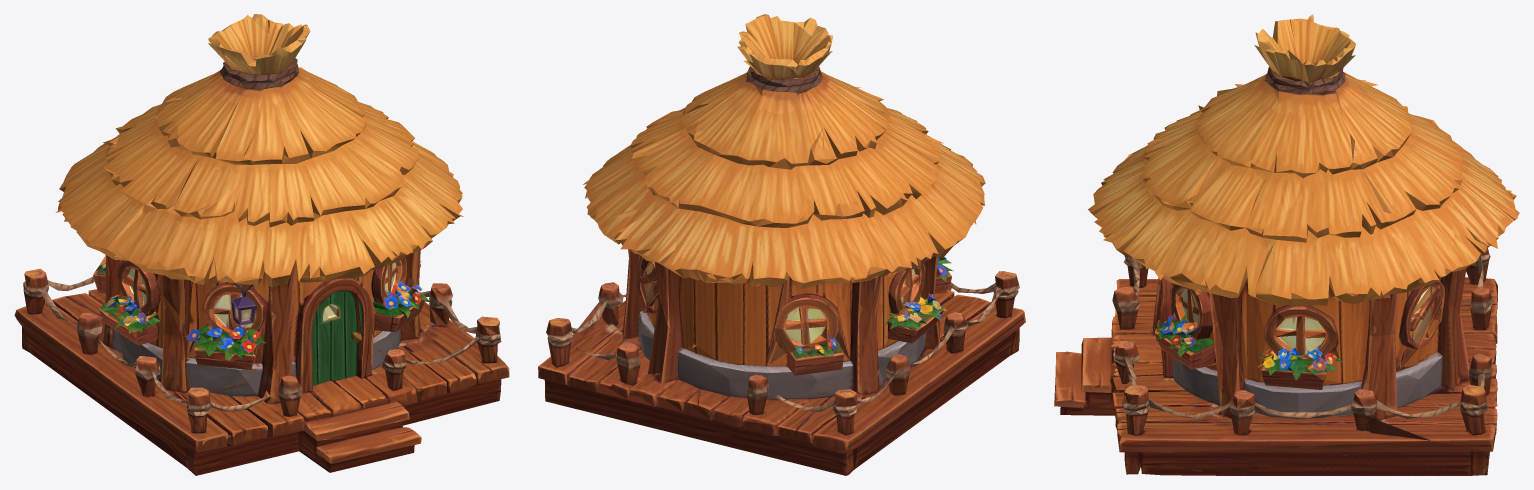
Rendered from hut_meshy.glb.
The picture shows the model from 3 angles, left to right: view 1: azimuth 30°, elevation 25°; view 2: azimuth 150°, elevation 25°; view 3: azimuth 270°, elevation 25°; orthographic projection. The views are drawn at different scales.
Visible parts, largest first — view 1: hut_meshy; view 2: hut_meshy; view 3: hut_meshy.
Part boxes in pixels (x1=…): hut_meshy: x1=14, y1=14, x2=509, y2=475; hut_meshy: x1=538, y1=14, x2=1025, y2=475; hut_meshy: x1=1054, y1=14, x2=1519, y2=475.
Bounding box in the file's own units: 6.3 × 6 × 6.92.
Materials: 1 (1 with a texture image).
